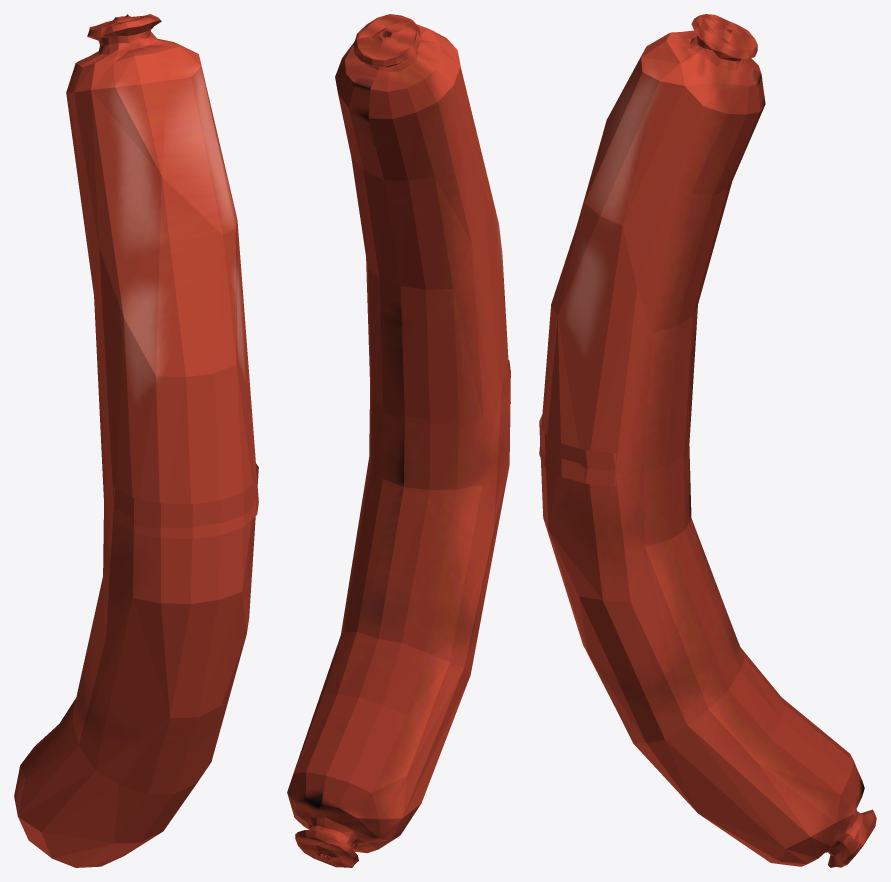
File: Shtomba.glb
3 views of the same model, side by side, from view 1: azimuth 30°, elevation 25°; view 2: azimuth 150°, elevation 25°; view 3: azimuth 270°, elevation 25° (orthographic). The views are drawn at different scales.
Visible parts, largest first — view 1: Shtomba; view 2: Shtomba; view 3: Shtomba.
Part boxes in pixels (box(x1,y1,x2,y2)): Shtomba: box(14, 14, 258, 867); Shtomba: box(287, 14, 510, 867); Shtomba: box(539, 14, 876, 867).
Size of the model in its own units: 66.62 by 415 by 150.
1 material, 1 textured.
